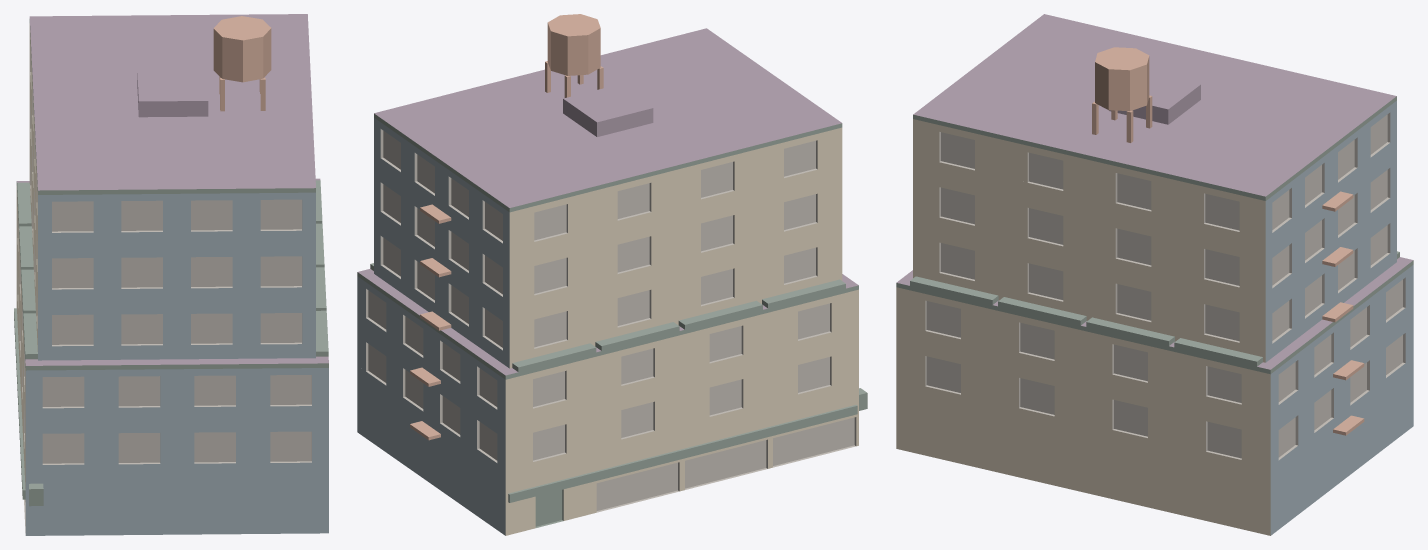
File: doitt-584049__lod_0.glb
3 views of the same model, side by side, from view 1: azimuth 30°, elevation 25°; view 2: azimuth 150°, elevation 25°; view 3: azimuth 270°, elevation 25° (orthographic). The views are drawn at different scales.
Bounding box in the file's own units: 29.87 × 28.38 × 32.94.
